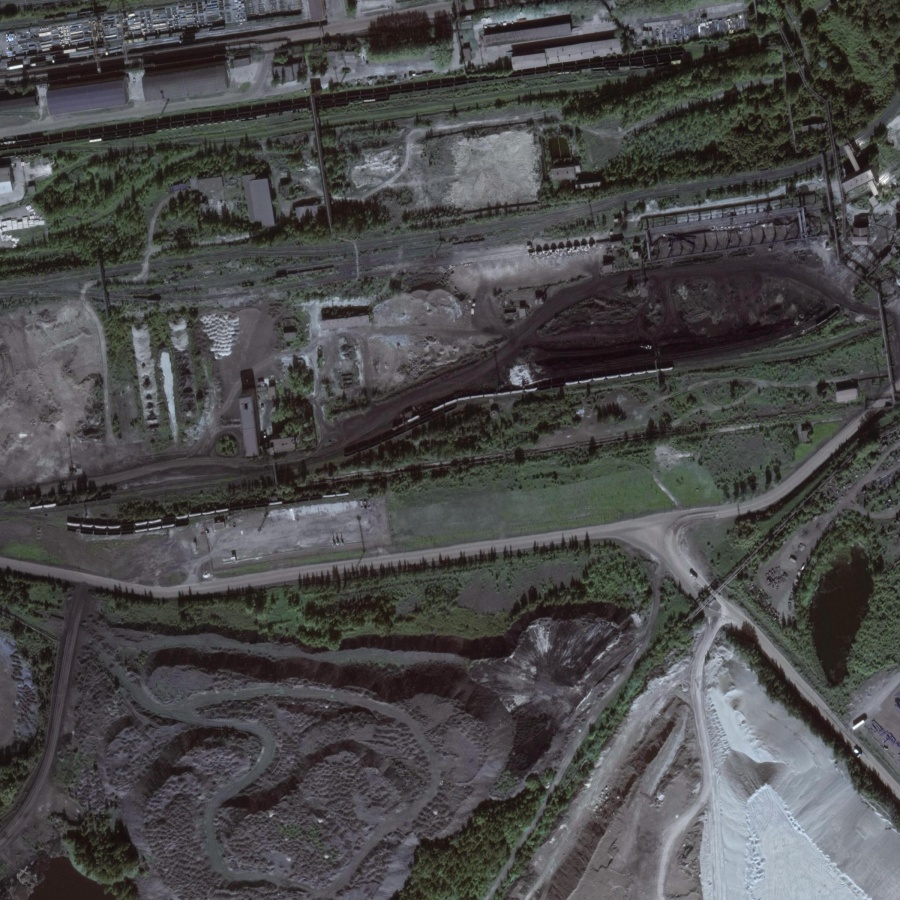PowerPlant: (408, 232, 848, 397)
